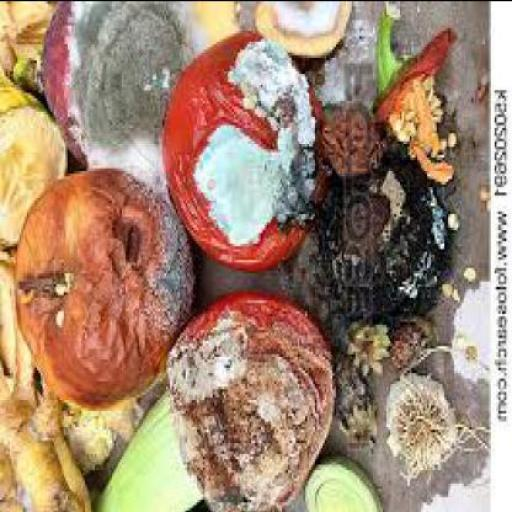biodegradable: (12, 164, 191, 407), (160, 24, 326, 266), (164, 286, 337, 510), (34, 2, 200, 172), (0, 242, 89, 510), (309, 146, 444, 320), (371, 1, 452, 180), (90, 390, 202, 510), (0, 62, 68, 248), (384, 372, 478, 478), (252, 1, 352, 57), (319, 96, 383, 178), (0, 2, 57, 92), (327, 344, 375, 450), (304, 453, 382, 509), (384, 305, 454, 366), (380, 312, 447, 372), (62, 396, 107, 477), (334, 310, 382, 374), (414, 476, 482, 510), (108, 394, 139, 439), (438, 275, 454, 299), (462, 261, 475, 281), (444, 208, 458, 224), (446, 129, 456, 145), (452, 286, 462, 299), (477, 184, 485, 200)
